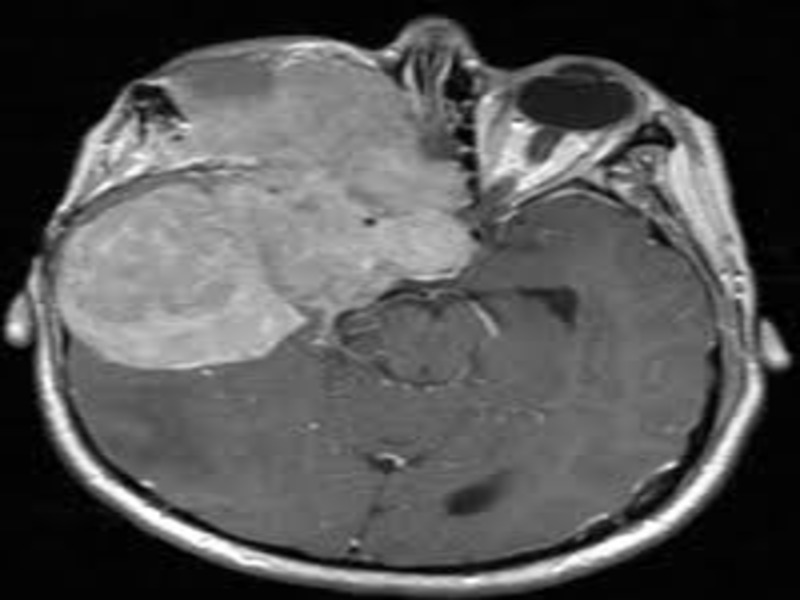tumor: (468, 108, 617, 250)
